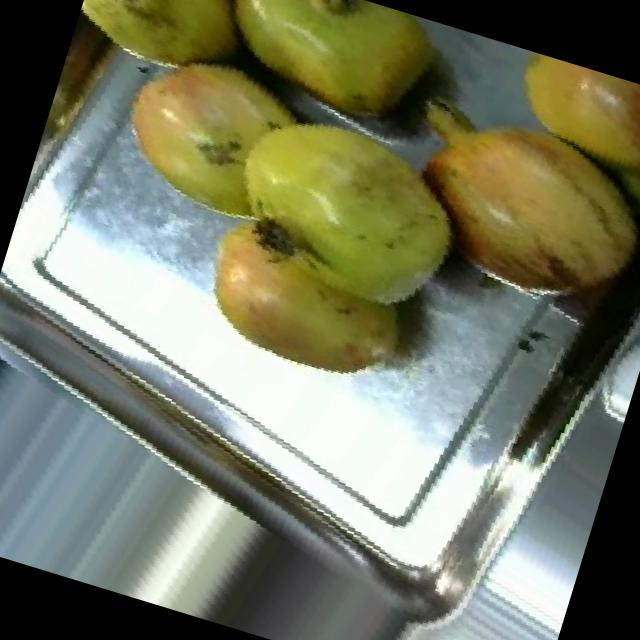fruit: (363, 59, 640, 363), (160, 182, 466, 430), (79, 13, 338, 262), (63, 0, 271, 115)
